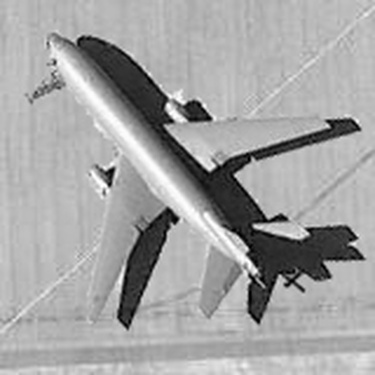airplane: (31, 20, 351, 333)
